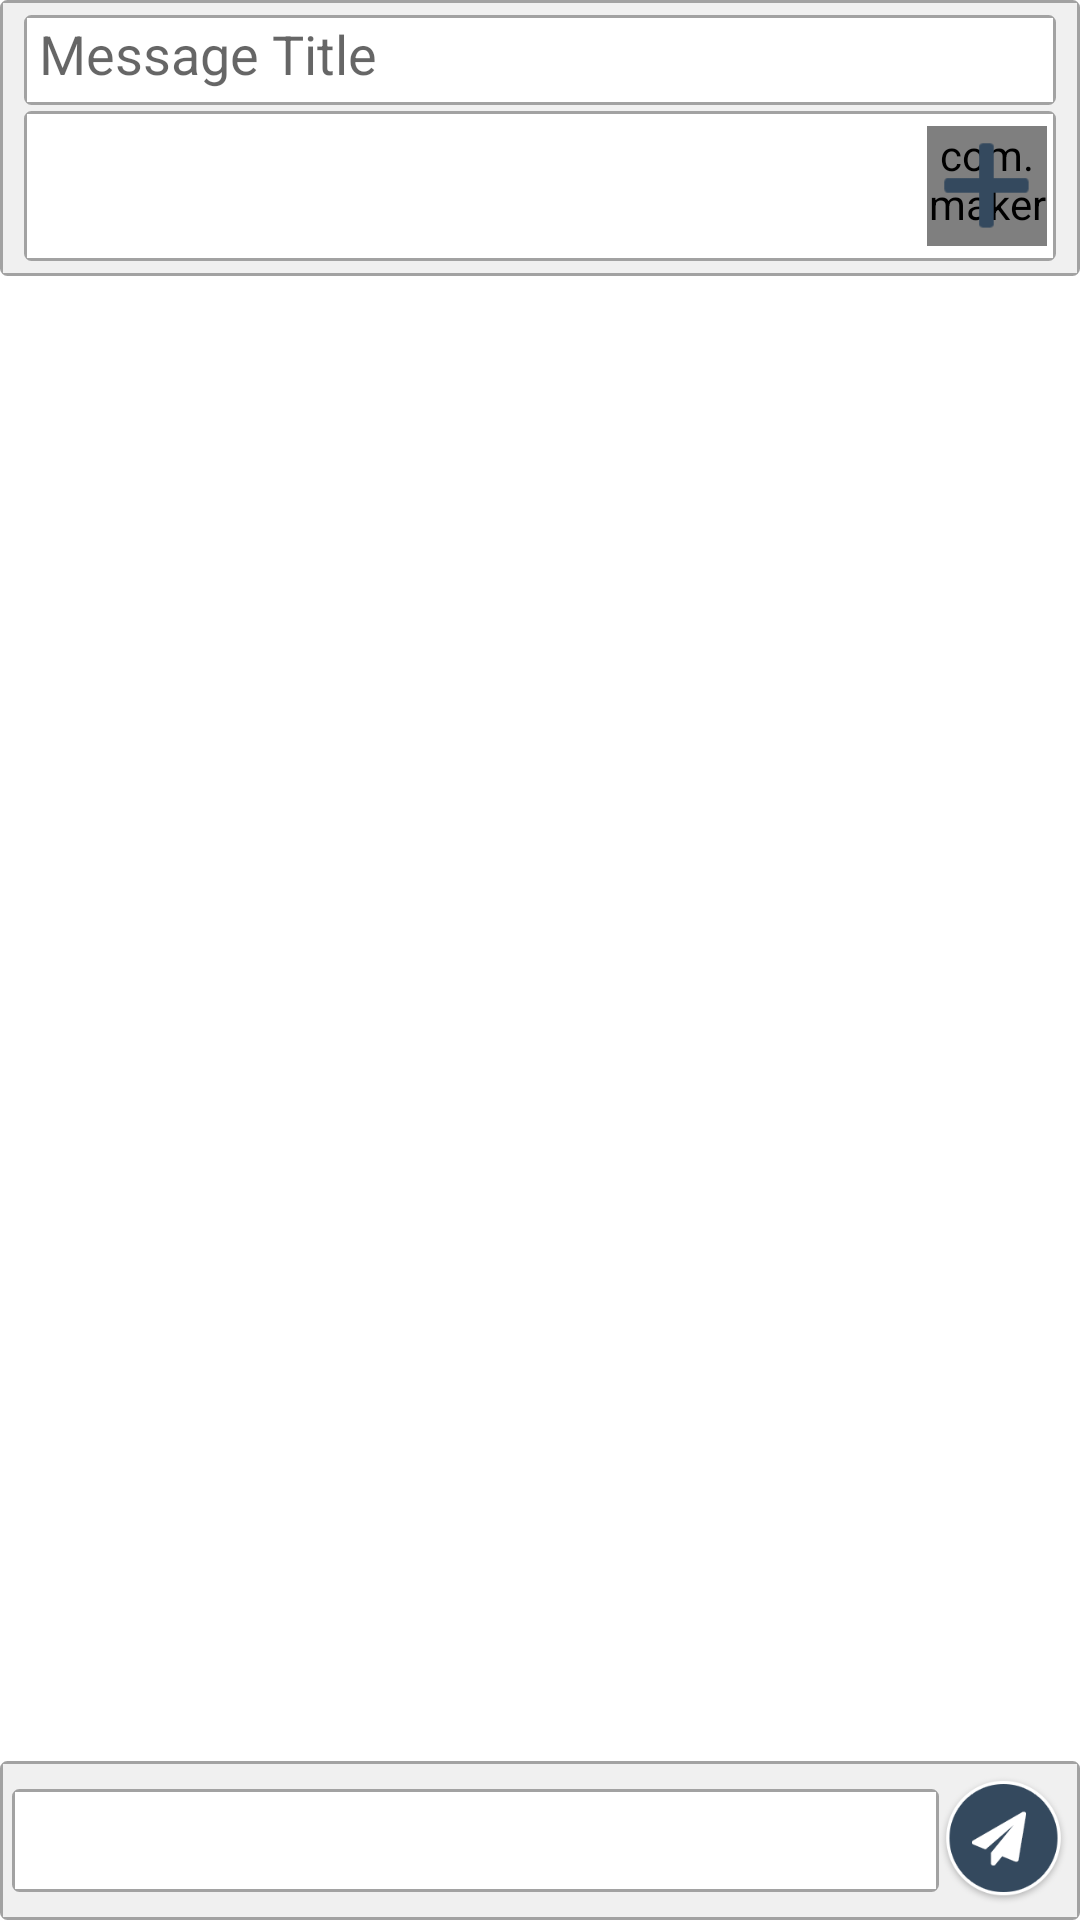

Locate icon controls on the screen. Image size 1080px×1920px, boxes as (x1, y1, x2, y2).
paper plane: (946, 1784, 1061, 1898)
plus: (942, 143, 1031, 228)
